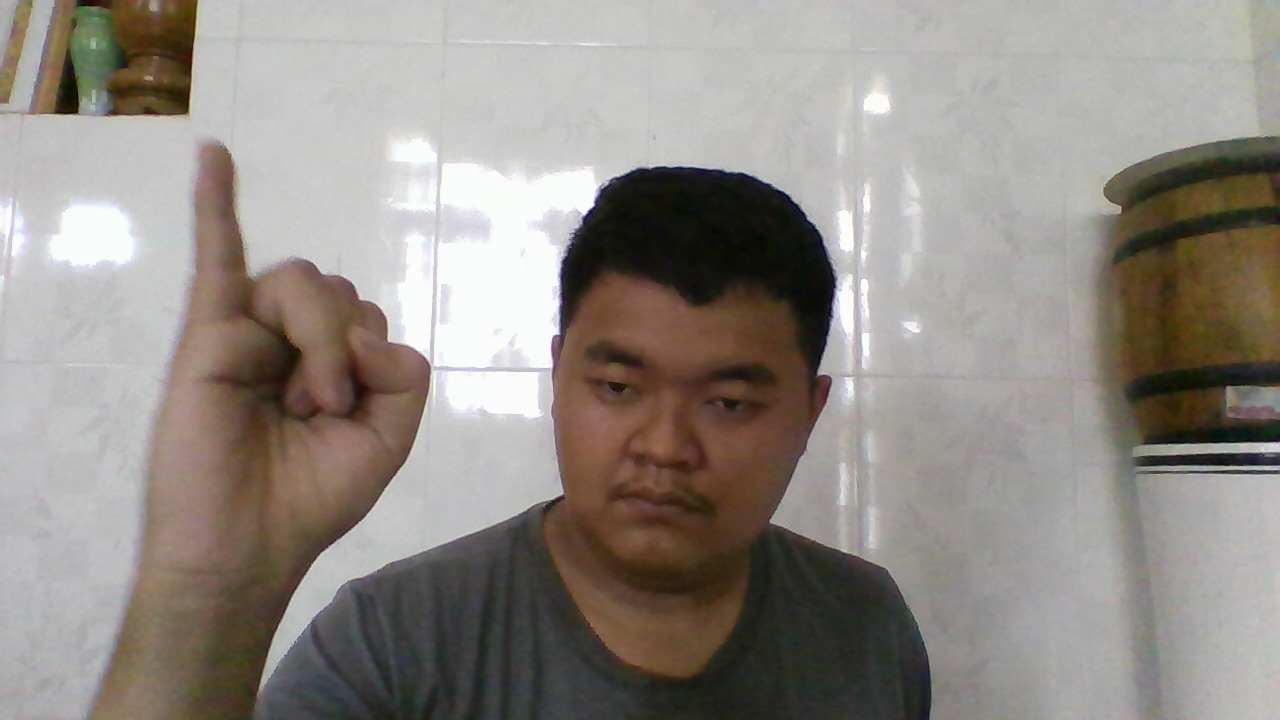I: (193, 143, 434, 567)
